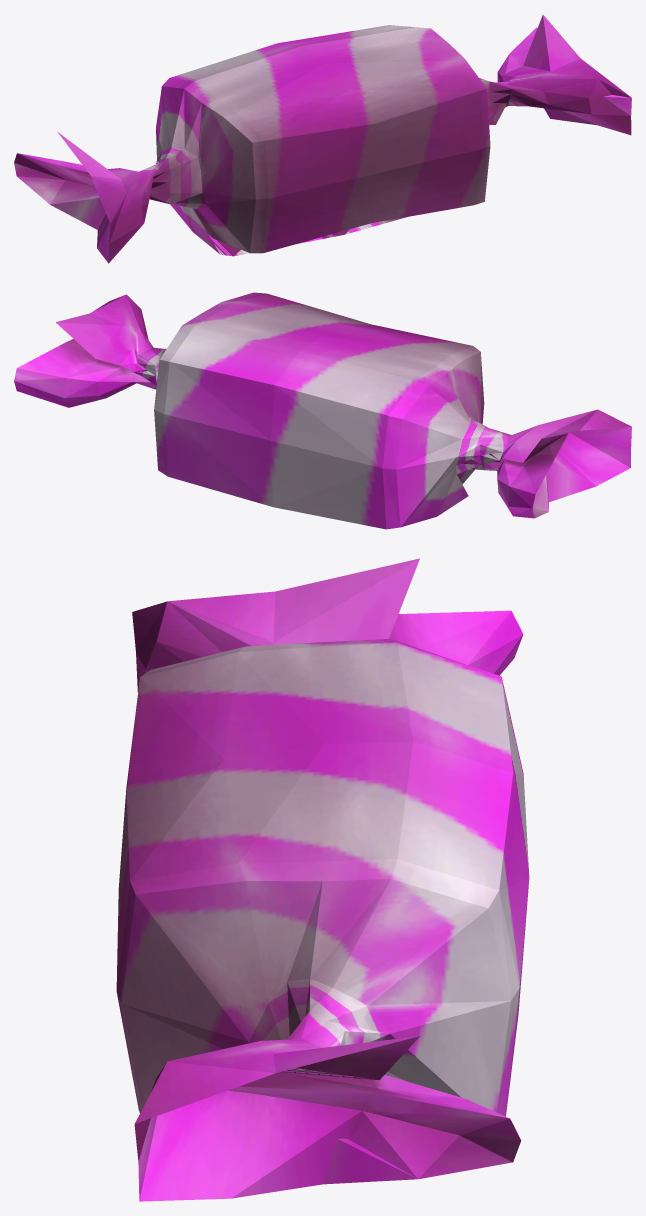
File: candy_real.glb
The picture shows the model from 3 angles, top to bottom: view 1: azimuth 30°, elevation 25°; view 2: azimuth 150°, elevation 25°; view 3: azimuth 270°, elevation 25°; orthographic projection. The views are drawn at different scales.
Parts seen in each view (by area): view 1: Object_2; view 2: Object_2; view 3: Object_2.
Boxes of the visible parts, <box> form: Object_2: <box>14,15,631,263</box>; Object_2: <box>14,292,631,529</box>; Object_2: <box>116,558,529,1201</box>.
Bounding box in the file's own units: 5.33 × 1.53 × 1.82.
1 material, 1 textured.
